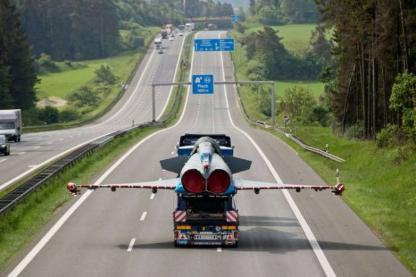E2: (66, 135, 344, 196)
